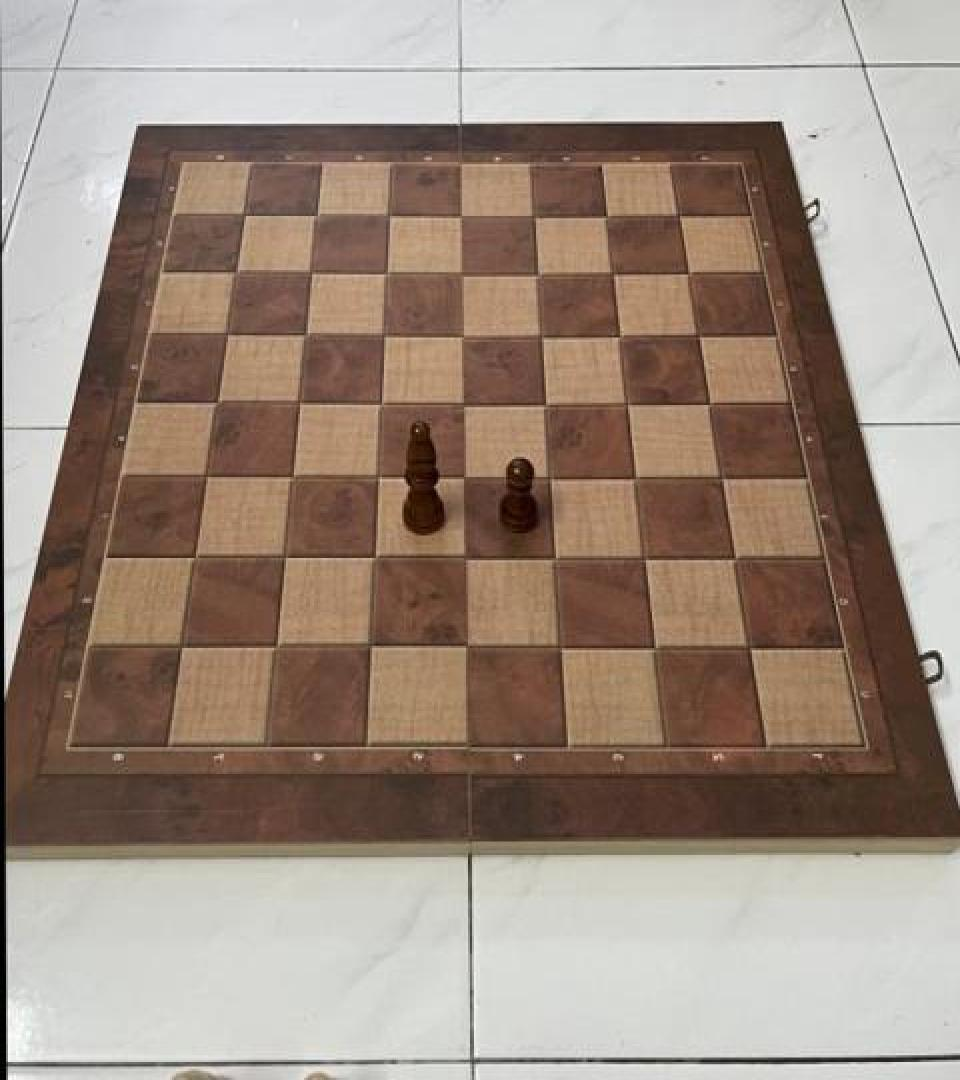xcorner: (228, 192, 262, 230), (301, 194, 335, 232), (374, 194, 408, 232), (446, 195, 480, 233), (519, 195, 553, 233), (591, 196, 625, 234), (664, 196, 698, 234), (219, 251, 253, 289), (295, 251, 329, 289), (371, 252, 405, 290), (446, 252, 480, 290), (522, 252, 556, 290), (597, 253, 631, 291), (673, 253, 707, 291), (210, 313, 244, 351), (289, 314, 323, 352), (368, 314, 402, 352), (447, 315, 481, 353), (525, 315, 559, 353), (604, 315, 638, 353), (682, 316, 716, 354), (200, 382, 234, 420), (282, 382, 316, 420), (365, 382, 399, 420), (447, 382, 481, 420), (529, 384, 563, 422), (611, 384, 645, 422), (693, 384, 727, 422), (189, 456, 223, 494), (275, 457, 309, 495), (361, 457, 395, 495), (447, 457, 481, 495), (533, 458, 567, 496), (619, 458, 653, 496), (704, 458, 738, 496), (176, 538, 210, 576), (267, 538, 301, 576), (357, 538, 391, 576), (447, 539, 481, 577), (537, 539, 571, 577), (627, 539, 661, 577), (717, 540, 751, 578), (163, 628, 197, 666), (258, 628, 292, 666), (353, 628, 387, 666), (447, 628, 481, 666), (542, 629, 576, 667), (636, 629, 670, 667), (731, 629, 765, 667)
